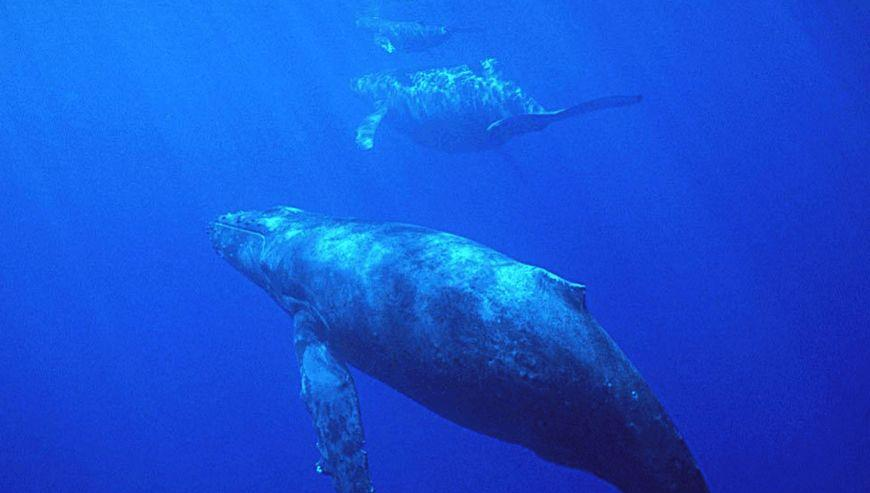fish: (185, 190, 709, 493), (347, 60, 648, 177)
